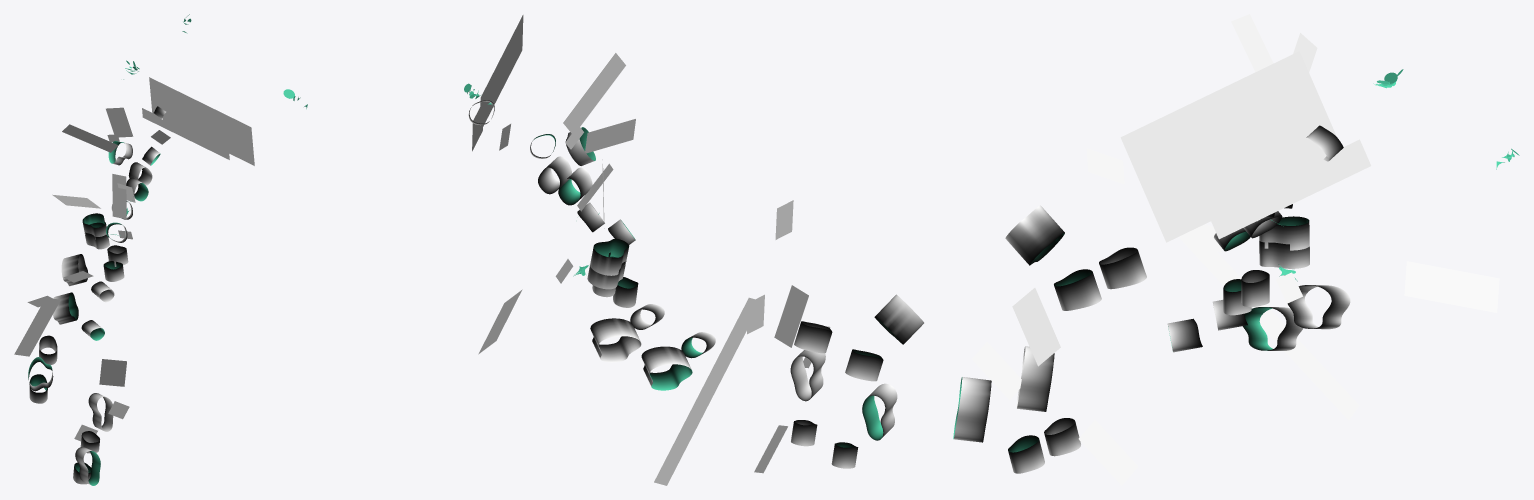
The model's file is ----------------PORTALS-------------------.fbx.
3 renders of one model, left to right at view 1: azimuth 30°, elevation 25°; view 2: azimuth 150°, elevation 25°; view 3: azimuth 270°, elevation 25°, orthographic. The views are drawn at different scales.
Parts seen in each view (by area): view 1: Whitebox_Quad (14), Portal - Penrose 3 (4) (×3), Whitebox_Quad (15) (×2), Whitebox_Quad (10), Whitebox_Quad (7), Portal - Penrose 3 (3), Portal - Penrose 3 (2), Whitebox_Quad (2), Whitebox_Quad (16), Portal - Penrose 2-2 (1), Portal - Infinite 3-2 (1), Portal - Infinite 3-2 (+10 smaller); view 2: Portal - Penrose 3 (4) (×3), Whitebox_Quad (10), Portal - Penrose 3 (3), Whitebox_Quad (15), Whitebox_Quad (14), Portal - Penrose 3 (2), Portal - Infinite 3-1, Whitebox_Quad (7), Portal - Penrose 2-2 (1), Whitebox_Quad (16), Portal - Infinite 3-2, Portal - Infinite 3-2 (1) (+1 smaller); view 3: Whitebox_Quad (14), Whitebox_Quad (15) (×2), Portal - Penrose 3 (4) (×3), Whitebox_Quad (10), Quad (13), Portal - Infinite 3-1, Portal - Penrose 3 (2), Whitebox_Quad (7), Whitebox_Quad (22), Portal - Penrose 3 (3), Portal - Infinite 3-2 (1), Portal - Infinite 3-2 (+9 smaller).
Boxes of the visible parts, x1,y1,x2,y2 form: Whitebox_Quad (14): (149, 77, 254, 165); Portal - Penrose 3 (4) (×3): (61, 162, 152, 431); Whitebox_Quad (15) (×2): (106, 107, 229, 159); Whitebox_Quad (10): (14, 299, 60, 356); Whitebox_Quad (7): (99, 359, 126, 386); Portal - Penrose 3 (3): (53, 292, 78, 324); Portal - Penrose 3 (2): (75, 447, 100, 485); Whitebox_Quad (2): (112, 174, 126, 219); Whitebox_Quad (16): (62, 124, 118, 152); Portal - Penrose 2-2 (1): (82, 213, 106, 239); Portal - Infinite 3-2 (1): (39, 335, 57, 364); Portal - Infinite 3-2: (29, 374, 47, 403); Portal - Penrose 3 (4) (×3): (538, 156, 825, 401); Whitebox_Quad (10): (654, 297, 761, 485); Portal - Penrose 3 (3): (641, 346, 692, 390); Whitebox_Quad (15): (563, 53, 625, 135); Whitebox_Quad (14): (480, 15, 523, 126); Portal - Penrose 3 (2): (862, 383, 897, 440); Portal - Infinite 3-1: (874, 294, 923, 344); Whitebox_Quad (7): (774, 285, 808, 347); Portal - Penrose 2-2 (1): (590, 238, 629, 275); Whitebox_Quad (16): (585, 119, 635, 153); Portal - Infinite 3-2: (845, 349, 883, 381); Portal - Infinite 3-2 (1): (794, 321, 832, 353); Whitebox_Quad (14): (1120, 51, 1336, 242); Whitebox_Quad (15) (×2): (1207, 14, 1370, 239); Portal - Penrose 3 (4) (×3): (1016, 125, 1350, 411); Whitebox_Quad (10): (1179, 229, 1359, 420); Quad (13): (1404, 261, 1499, 312); Portal - Infinite 3-1: (1005, 205, 1064, 265); Portal - Penrose 3 (2): (953, 377, 991, 442); Whitebox_Quad (7): (1012, 288, 1060, 366); Whitebox_Quad (22): (1078, 420, 1138, 485); Portal - Penrose 3 (3): (1243, 307, 1303, 350); Portal - Infinite 3-2 (1): (1099, 247, 1146, 289); Portal - Infinite 3-2: (1054, 269, 1101, 310).
Size of the model in its own units: 67.2 by 66.17 by 62.71.
